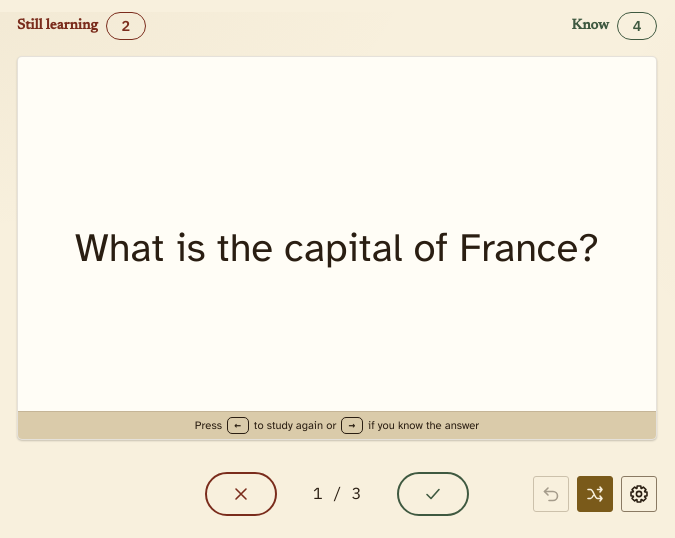
Test: FlashcardSession card tip › puts the tip inside both faces, exposes it once, and retires it after the first grade
Expected: the 2nd element with class "card-tip" is shown, [18,411,656,439]
Type keys " "
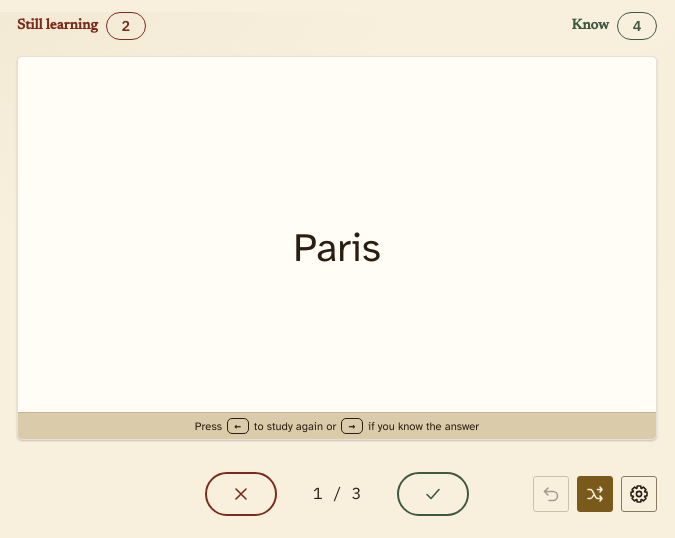
Click the button named "Know".
click(433, 494)  # box [397,472,469,516]
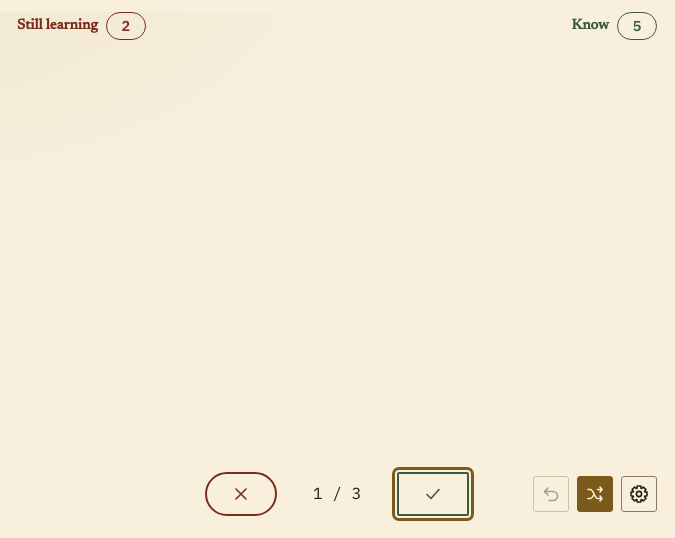
Expected: the element with test id "card-tip" is gone
